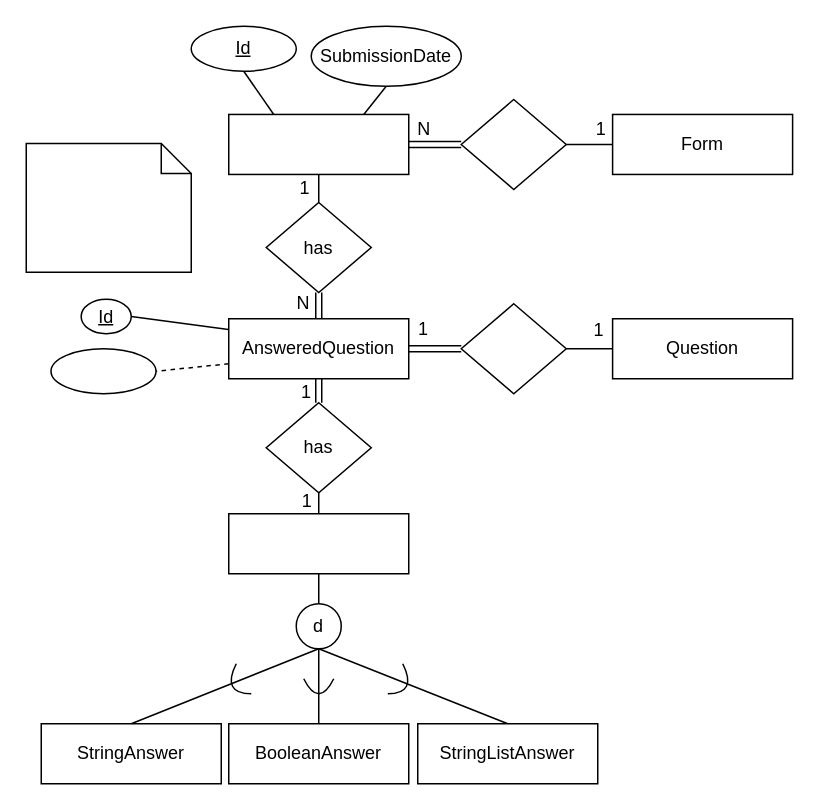
The diagram is 819 pixels wide and 810 high, and some of its shapes have lost their labels. Each missing label, with the box of its shape:
Answer: (227, 512, 409, 574)
NoteText: (50, 347, 156, 394)
NoteText only exists if a Review exists for that Submission: (25, 142, 191, 272)
refer: (460, 98, 566, 189)
refers: (460, 302, 566, 394)
Submission: (227, 113, 409, 174)
